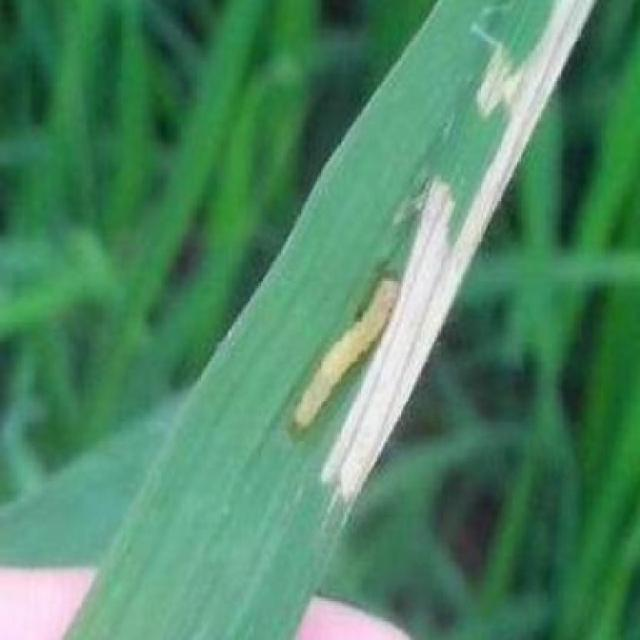leaf-folder: (259, 243, 438, 448)
